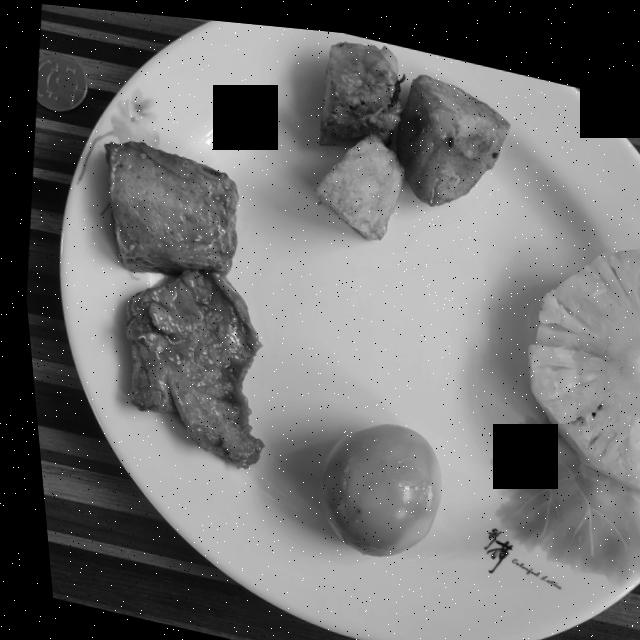coin: (35, 54, 87, 111)
creamy tofu: (103, 139, 256, 464)
fried potato: (310, 35, 509, 233)
pineapple: (522, 236, 640, 485)
soy egg: (310, 417, 433, 550)
